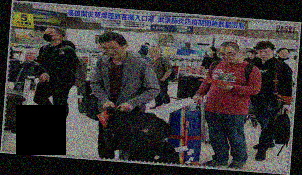with_mask: (42, 29, 57, 43), (205, 49, 213, 56)
without_mask: (101, 44, 123, 59), (218, 50, 239, 64), (256, 49, 272, 62), (279, 50, 290, 59), (147, 48, 156, 58), (247, 52, 253, 58)
